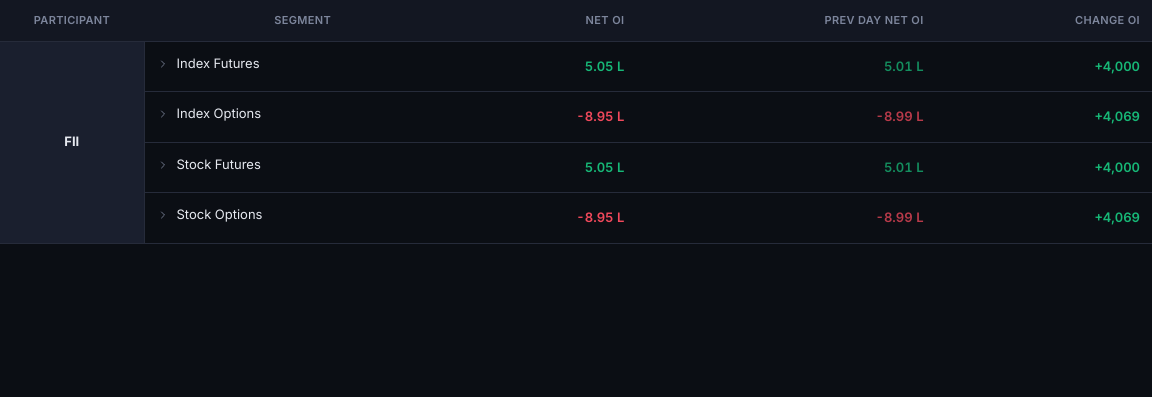
Test case: the leg breakdown › shows the two futures legs on a futures row
The image size is (1152, 397).
Click the button "Index Futures" at (208, 64), box top-left (156, 54), bottom-right (260, 74)
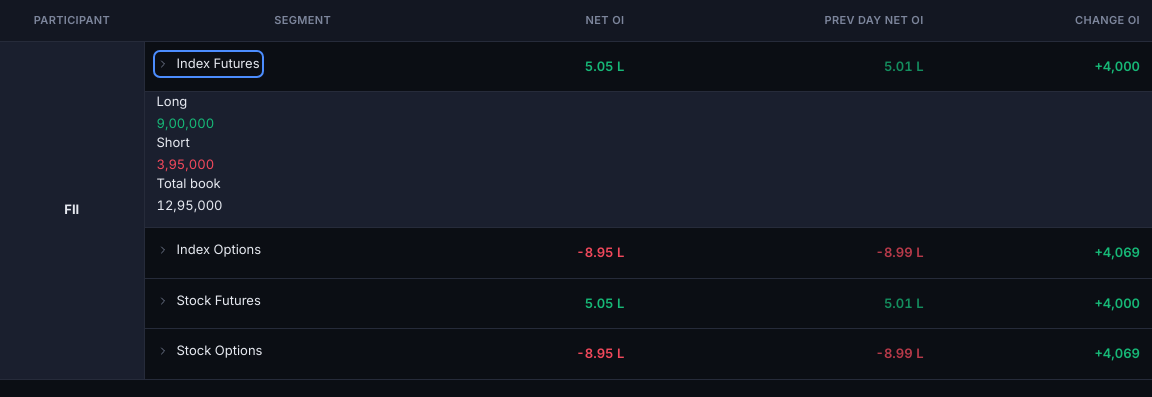
Result: the text "Long" is shown at top-left (156, 93), bottom-right (187, 109)
Result: the text "Short" is shown at top-left (156, 134), bottom-right (190, 150)
